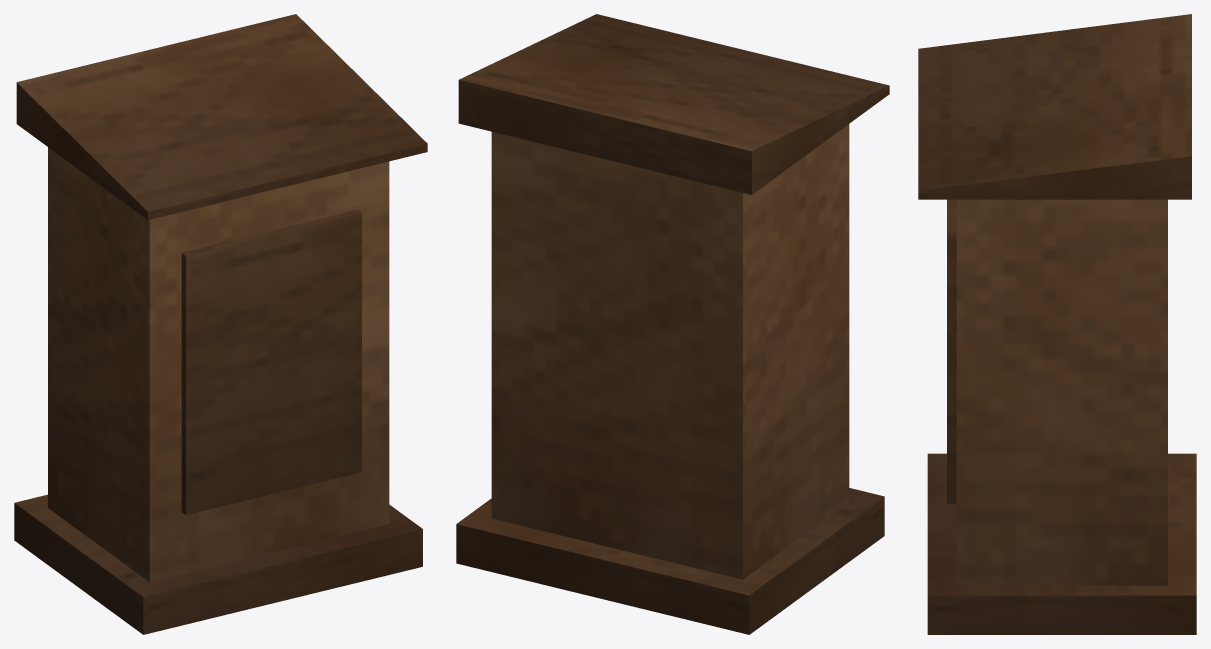
File: PROP_Lectern.fbx
3 views of the same model, side by side, from view 1: azimuth 30°, elevation 25°; view 2: azimuth 150°, elevation 25°; view 3: azimuth 270°, elevation 25° (orthographic). The views are drawn at different scales.
Visible parts, largest first — view 1: PROP_Lectern; view 2: PROP_Lectern; view 3: PROP_Lectern.
Part boxes in pixels (bbox=[...]): PROP_Lectern: bbox=[14, 14, 427, 634]; PROP_Lectern: bbox=[456, 14, 889, 634]; PROP_Lectern: bbox=[918, 14, 1196, 634].
Bounding box in the file's own units: 70 × 110 × 58.
1 material, 1 textured.
